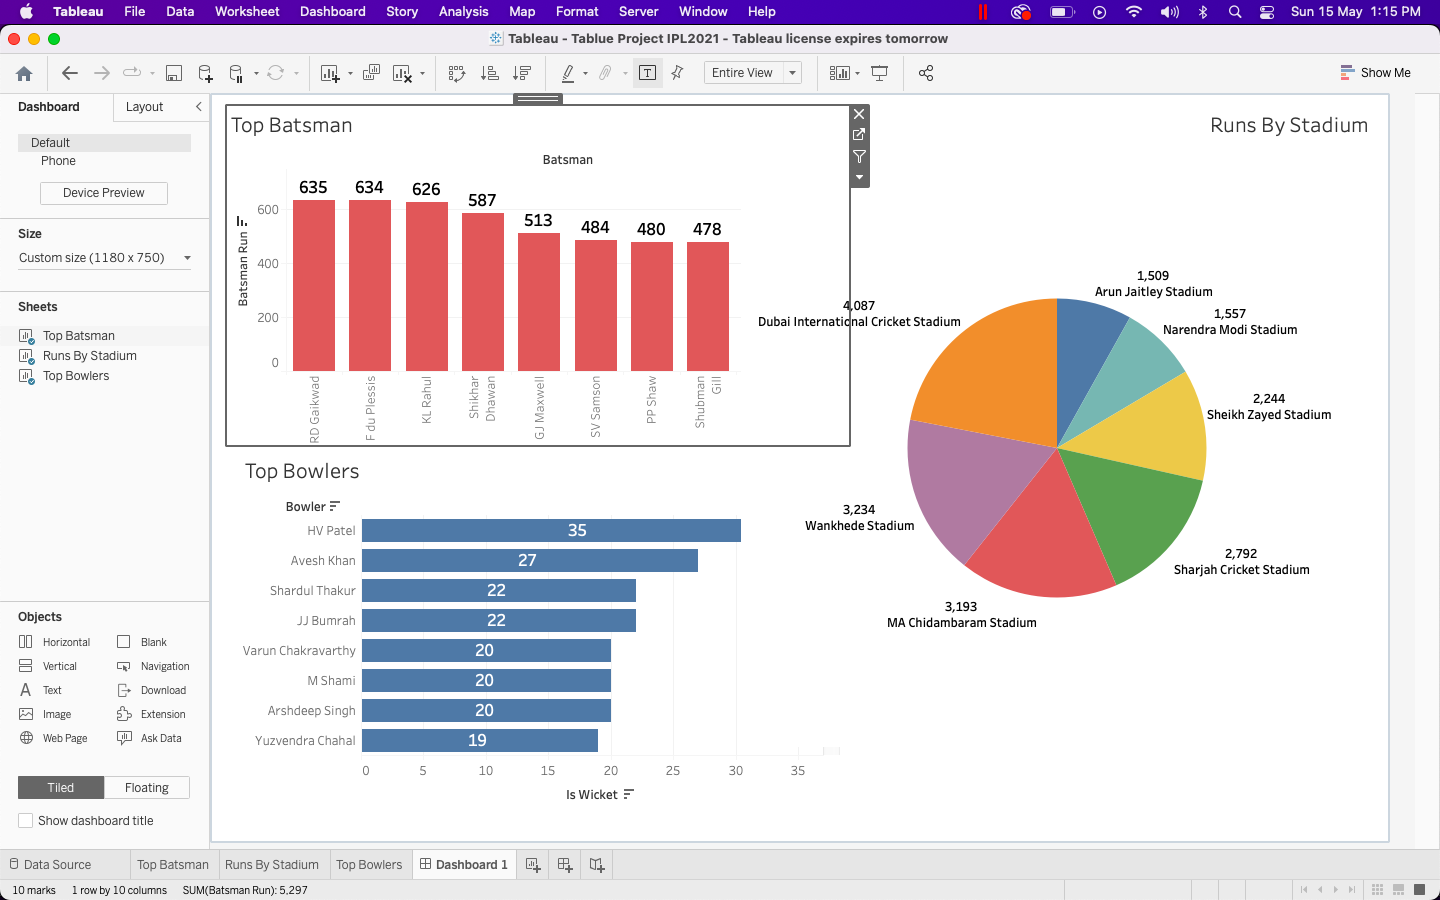

The dashboard page shown, as its layout file describes it:
{"tool":"tableau","page":{"name":"Dashboard 1","canvas":[1180,750],"ordinal":0},"visuals":[{"type":"worksheet","title":"Top Batsman","mark":"Automatic","rows":["batsman_run"],"cols":["batsman"],"box":[17,13,622,339]},{"type":"worksheet","title":"Runs By Stadium","mark":"Pie","box":[531,13,632,641]},{"type":"worksheet","title":"Top Bowlers","mark":"Automatic","rows":["bowler"],"cols":["is_wicket"],"box":[31,359,599,358]}]}

Visuals, with their boxes on the page's 1180x750 design canvas (x1, y1, x2, y2). These are canvas units, not pixel positions in the 1440x900 screenshot, which may show the page scaled, cropped or inside an application window:
"Top Batsman" worksheet: [17,13,639,352]
"Runs By Stadium" worksheet (Pie marks): [531,13,1163,654]
"Top Bowlers" worksheet: [31,359,630,717]
